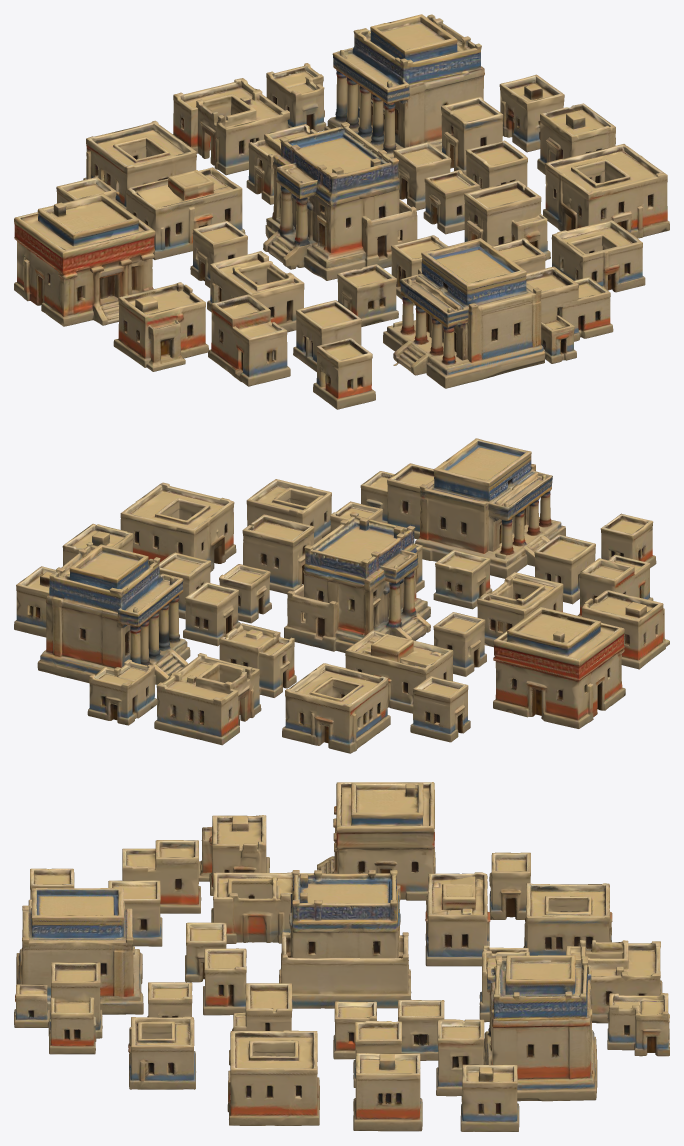
The model's file is Classical Town (Middle Eastern).fbx.
3 renders of one model, top to bottom at view 1: azimuth 30°, elevation 25°; view 2: azimuth 150°, elevation 25°; view 3: azimuth 270°, elevation 25°, orthographic. The views are drawn at different scales.
Parts seen in each view (by area): view 1: tripo_node_b00bd21f; view 2: tripo_node_b00bd21f; view 3: tripo_node_b00bd21f.
Boxes of the visible parts, left/top/right/bottom form: tripo_node_b00bd21f: left=14, top=14, right=669, bottom=409; tripo_node_b00bd21f: left=14, top=438, right=669, bottom=753; tripo_node_b00bd21f: left=14, top=782, right=669, bottom=1131.
Bounding box in the file's own units: 1 × 0.1841 × 0.9991.
